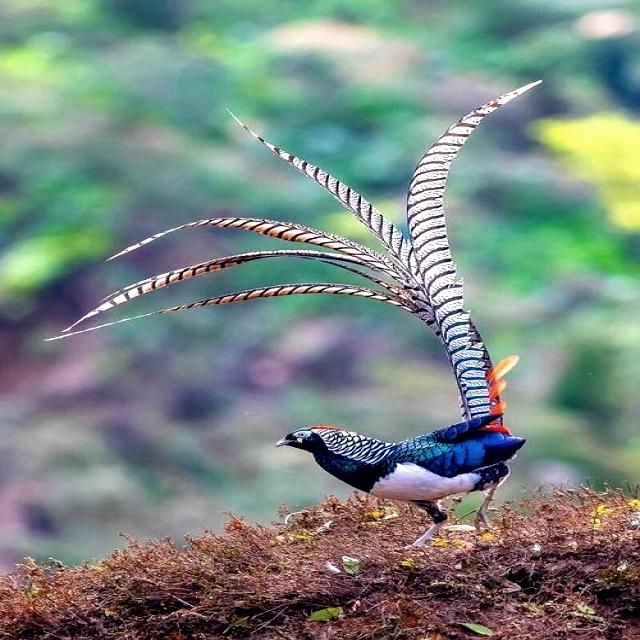Chrysolophus amherstiae: (76, 81, 539, 419), (433, 288, 443, 299)
